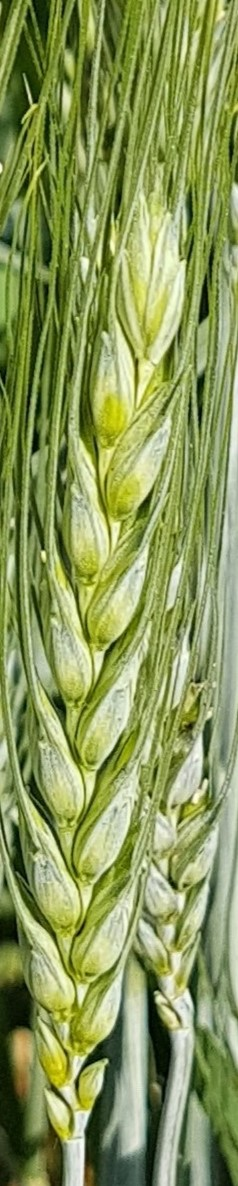Healthy Wheat: (14, 195, 197, 1052)
